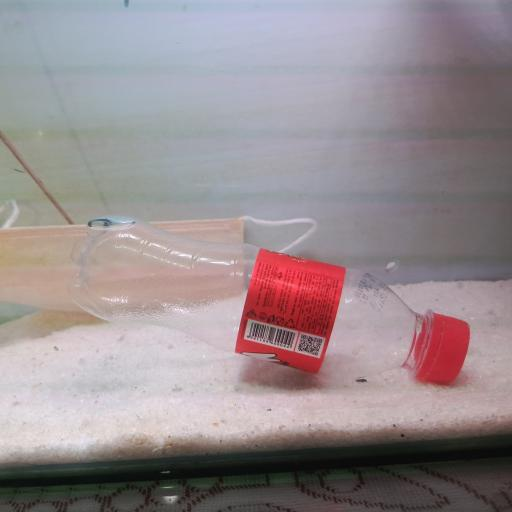bottle_cap: (418, 307, 472, 384)
mask: (5, 202, 322, 298)
plastic_bottle: (66, 212, 466, 387)
